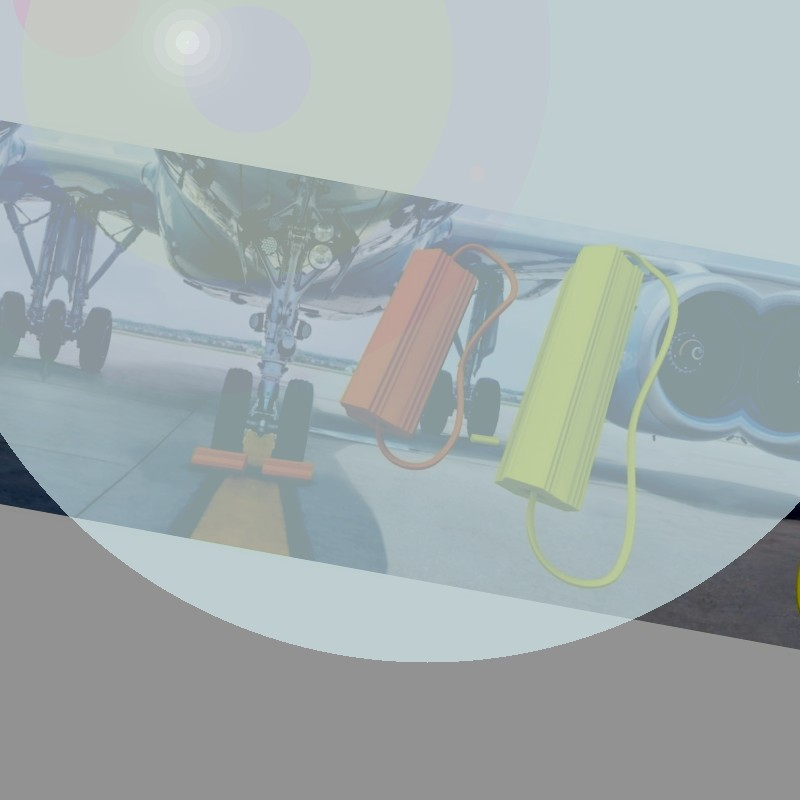chock: (491, 234, 650, 523), (331, 237, 484, 450), (187, 441, 252, 481), (258, 454, 317, 487), (468, 430, 502, 449)
wheel: (210, 365, 255, 454), (272, 377, 318, 463), (75, 303, 117, 373), (463, 373, 504, 441), (418, 365, 457, 434), (0, 287, 30, 357), (35, 296, 58, 361), (47, 299, 70, 363)
